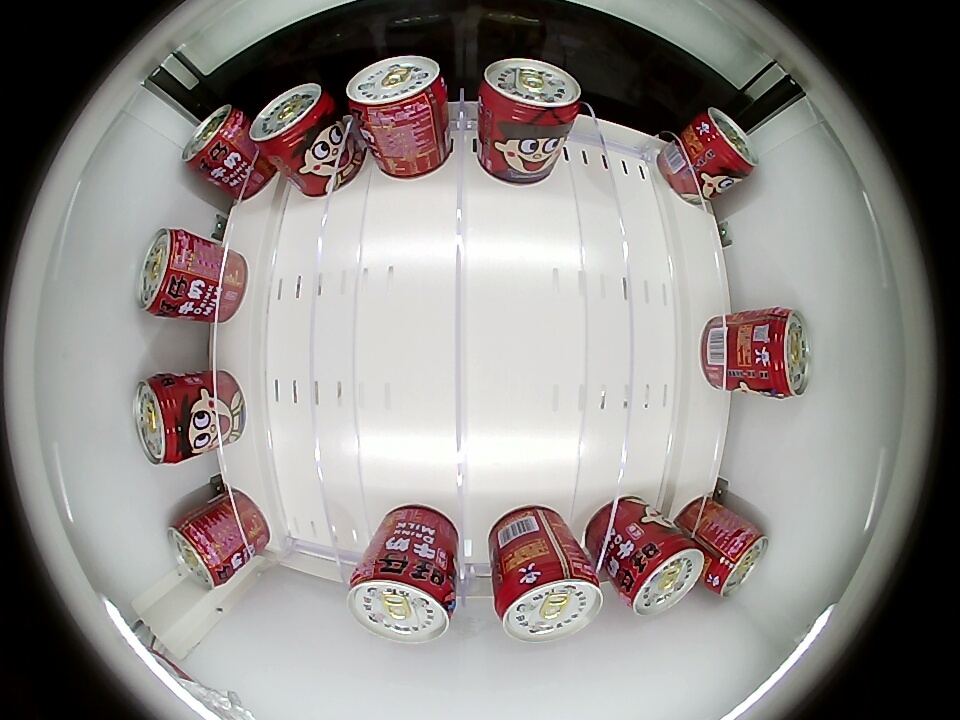wangzainiunai: (491, 550, 604, 643), (346, 552, 458, 644), (477, 57, 582, 136), (345, 55, 448, 134), (614, 528, 704, 616), (250, 82, 338, 161), (135, 226, 205, 320), (133, 373, 197, 466), (167, 510, 236, 590), (752, 307, 810, 400), (692, 107, 759, 184), (703, 522, 769, 598), (182, 103, 249, 177)
